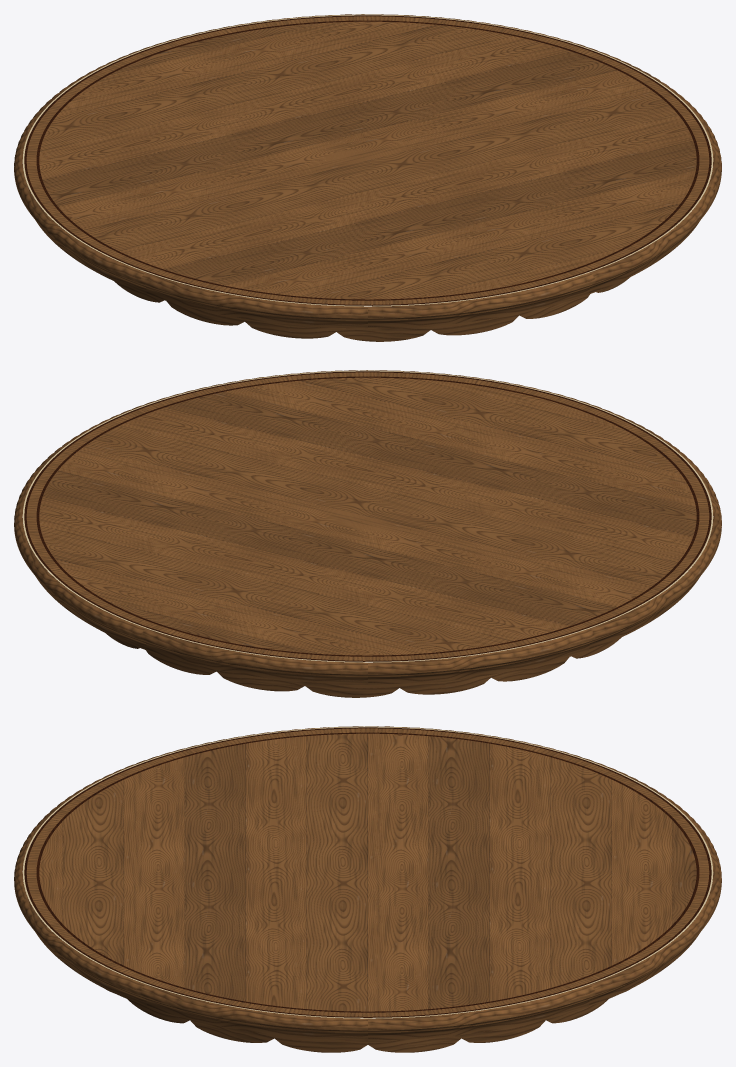
File: top.glb
3 renders of one model, top to bottom at view 1: azimuth 30°, elevation 25°; view 2: azimuth 150°, elevation 25°; view 3: azimuth 270°, elevation 25°, orthographic.
Visible parts, largest first — view 1: TopMesh; view 2: TopMesh; view 3: TopMesh.
Part boxes in pixels (x1,y1,x2,y2): TopMesh: [14, 14, 721, 341]; TopMesh: [14, 370, 721, 697]; TopMesh: [14, 726, 721, 1052].
Size of the model in its own units: 1.8 by 0.225 by 1.8.
4 materials, 3 textured.
